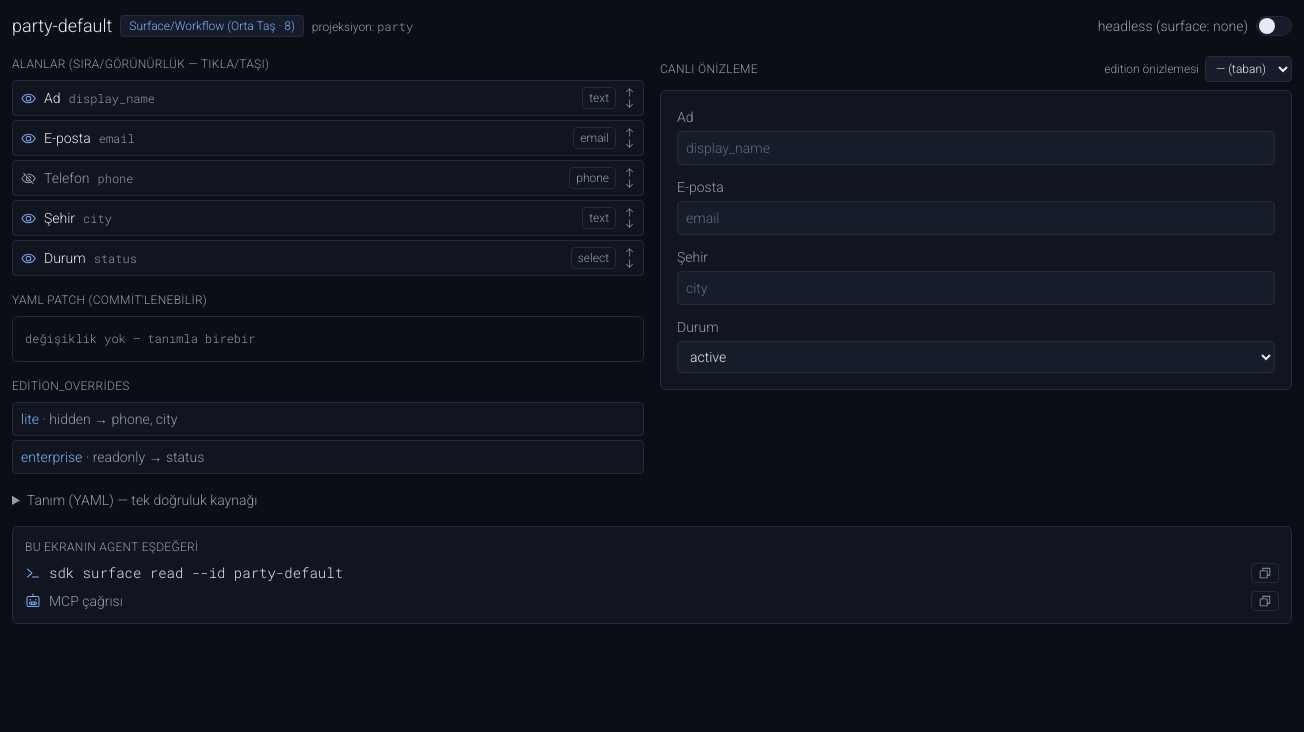
Surface Builder (P2) sözleşmesi › headless anahtarı: açılınca surface:none boş-durum kartı
The image size is (1304, 732).
Click the switch named "headless" at (1274, 26), box [1256,16,1292,36]
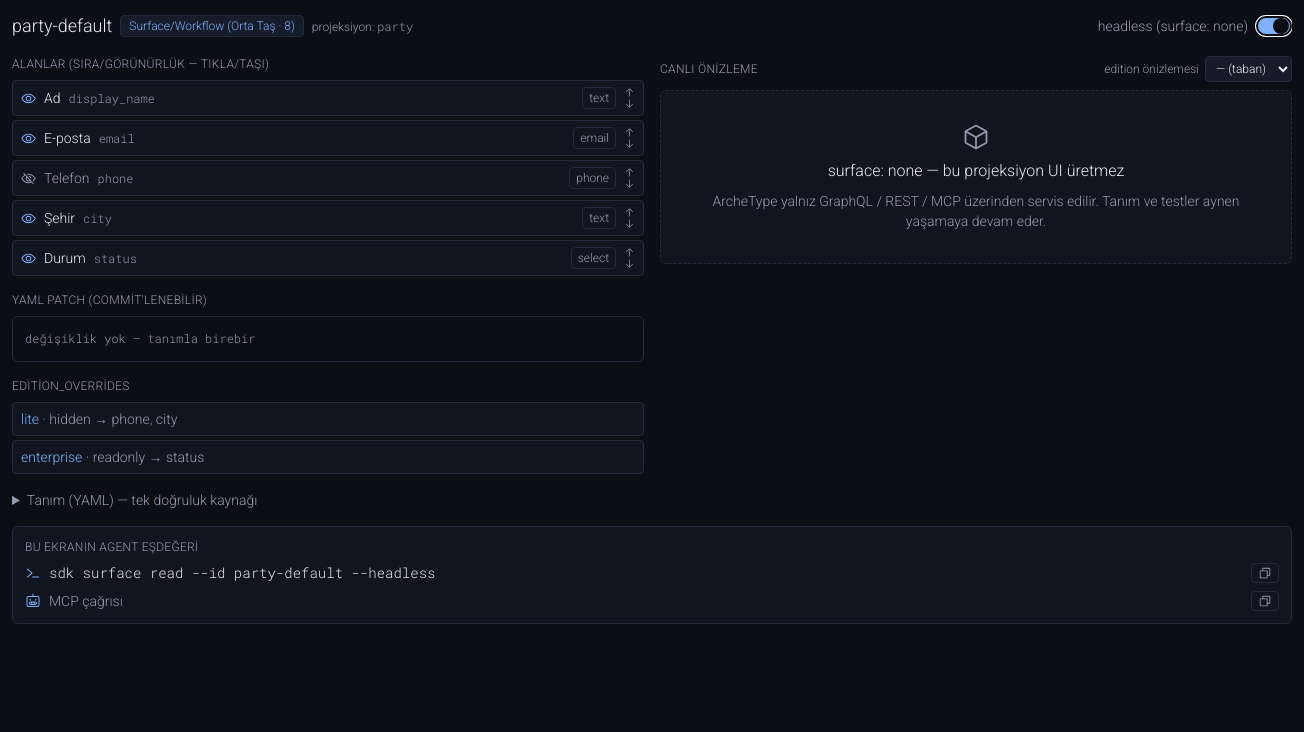
Check: the text "surface: none — bu projeksiyon UI üretmez" is shown, box [828,159,1124,183]
